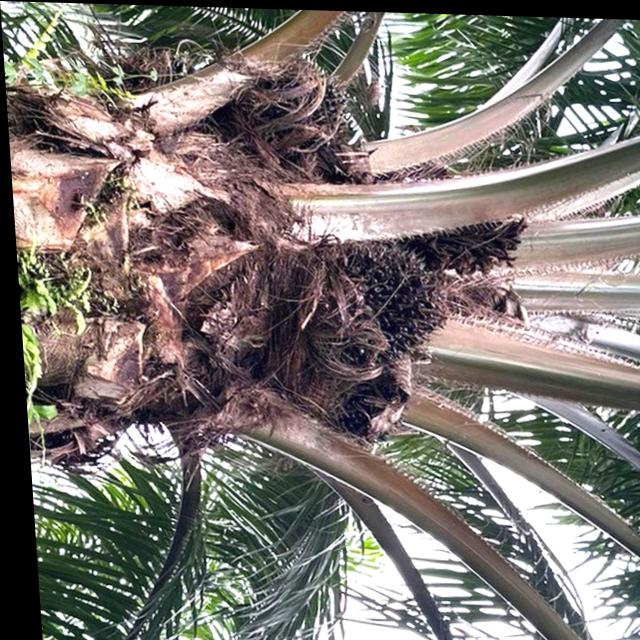unripe: (214, 42, 357, 175), (308, 236, 447, 367), (312, 374, 409, 456)
